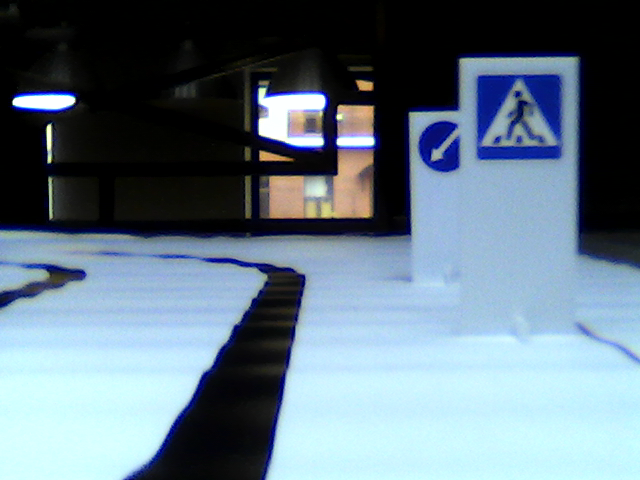pesh: (475, 74, 563, 159)
prep: (419, 123, 462, 175)
